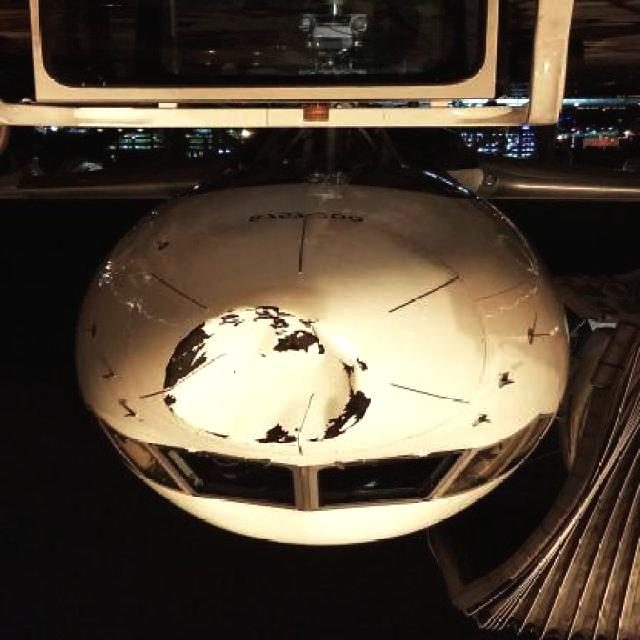dent: (162, 309, 373, 444)
